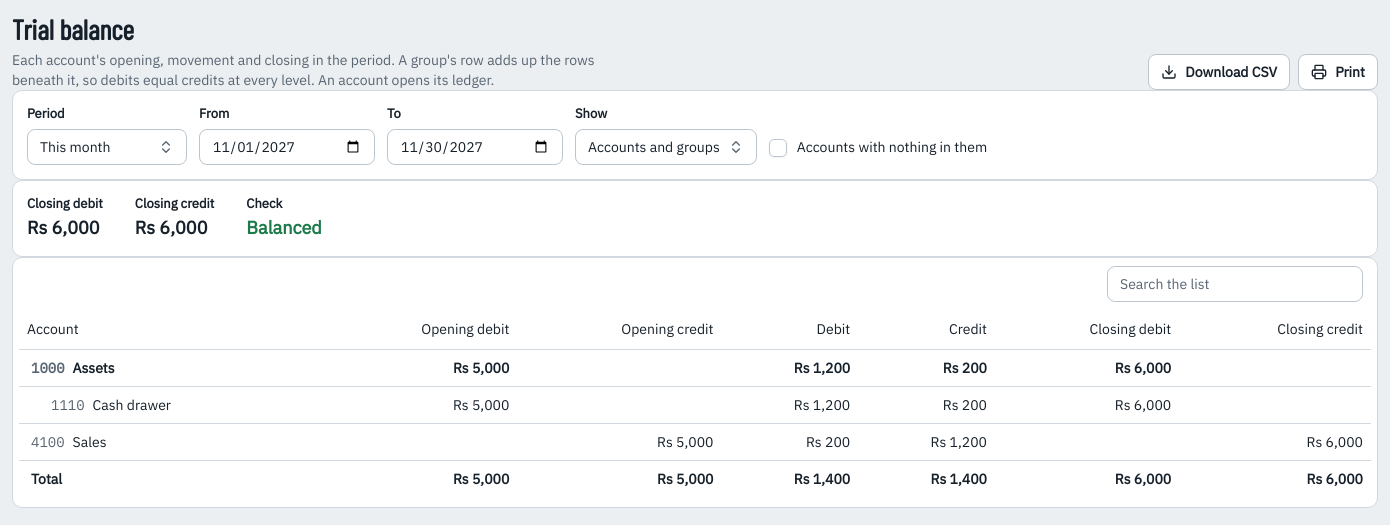
Scenario: the trial balance on the frame › narrows the list by a search, and prints a header with the shop, the report and its period
Step 1. Type "sales" into the search field labelled "Search the list" → [1235, 284], box [1107,266,1363,302]
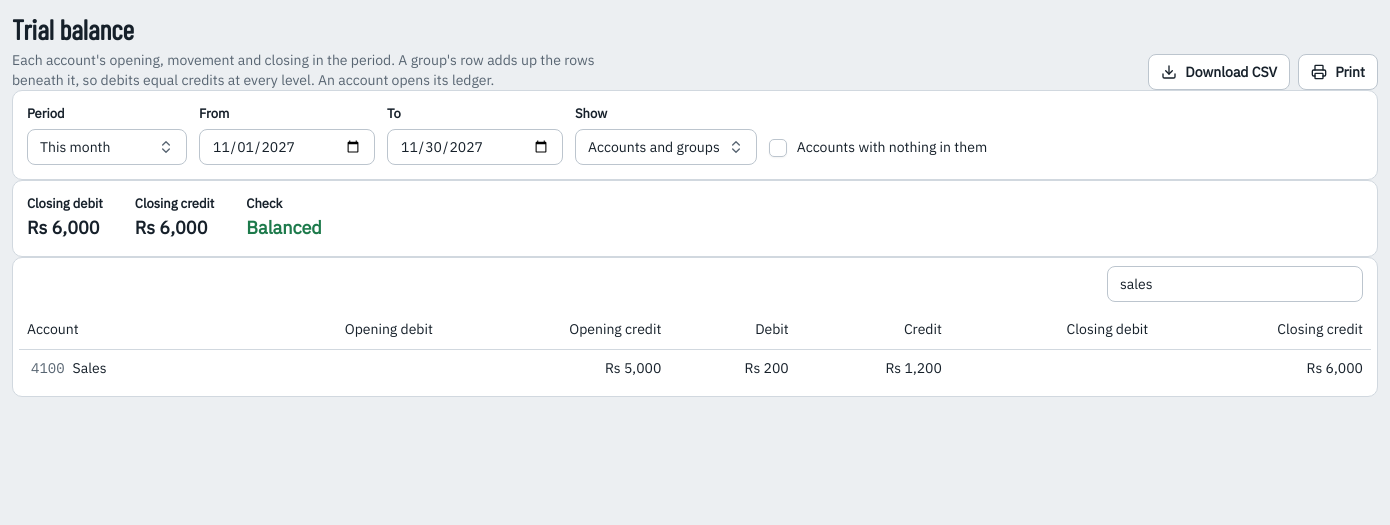
Check: the number of rows is 2, box [19,310,1371,350]; [19,350,1371,386]
